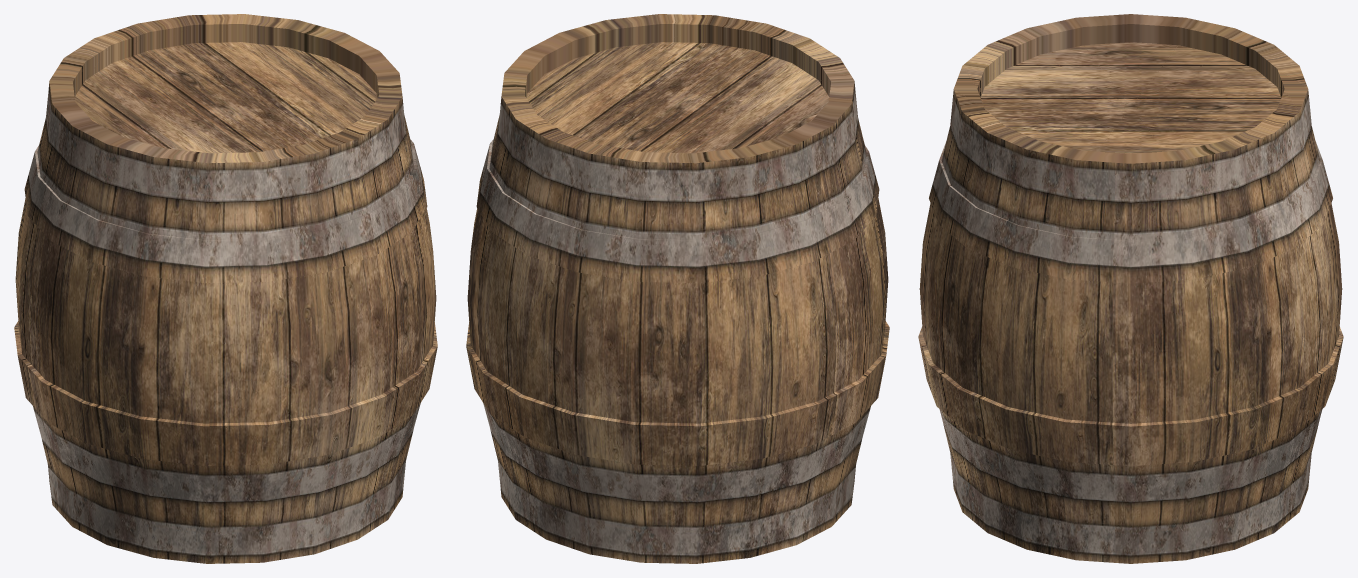
The model's file is barrel.fbx.
3 renders of one model, left to right at view 1: azimuth 30°, elevation 25°; view 2: azimuth 150°, elevation 25°; view 3: azimuth 270°, elevation 25°, orthographic.
Visible parts, largest first — view 1: pCylinder1; view 2: pCylinder1; view 3: pCylinder1.
Boxes of the visible parts, x1,y1,x2,y2 form: pCylinder1: (14, 14, 437, 563); pCylinder1: (466, 14, 889, 563); pCylinder1: (918, 14, 1343, 563).
Size of the model in its own units: 0.8262 by 0.8577 by 0.8262.
